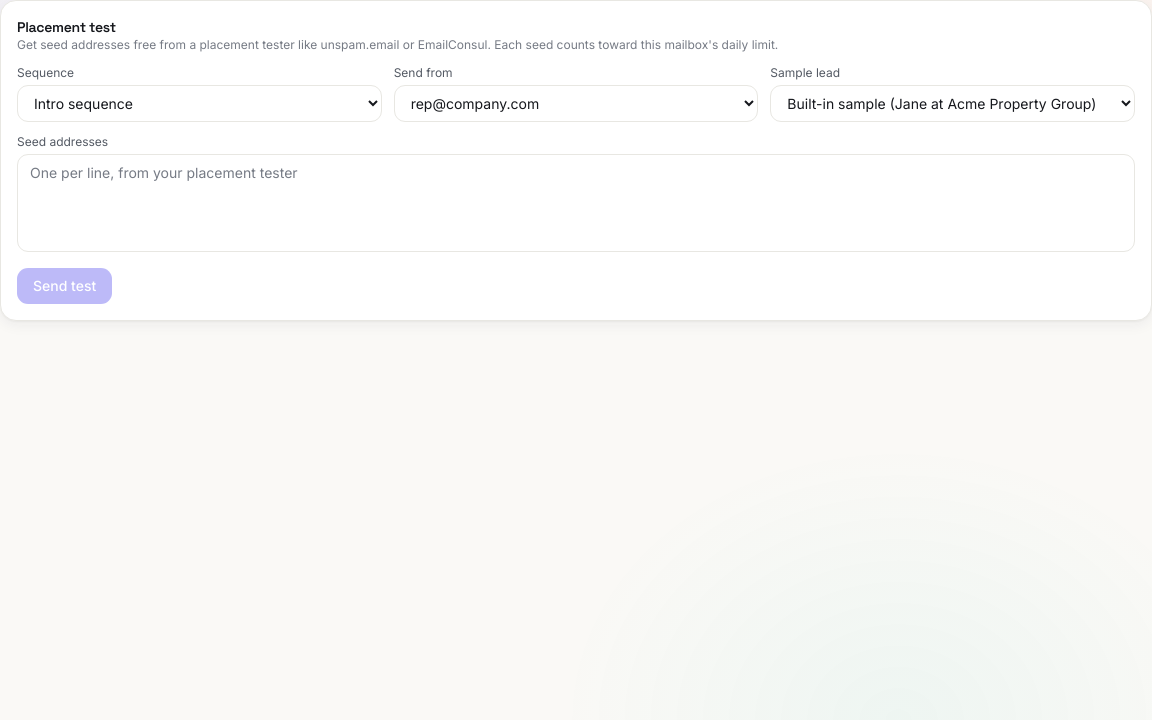
PlacementTestCard › shows a note when the AI personalization line could not be generated
In the text box labelled "Seed addresses": coordinates (576, 203) [17,154,1135,252], type "a@tester.com"
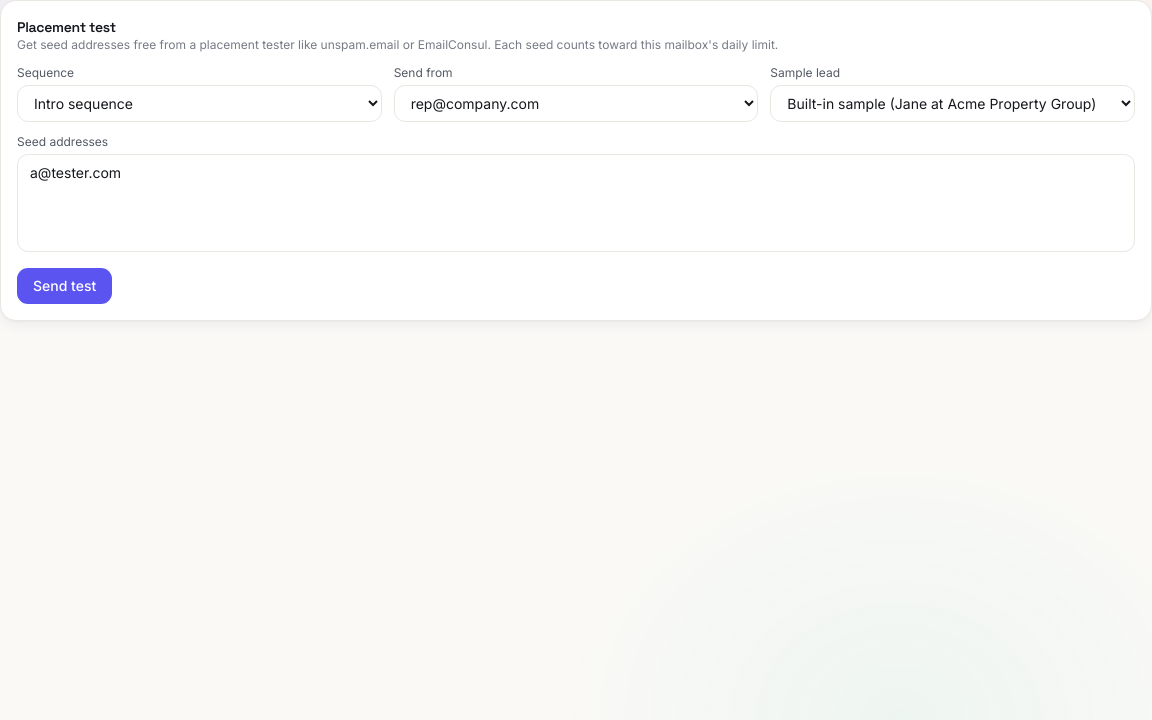
Click the button "Send test": coordinates (65, 286) [17,268,112,304]
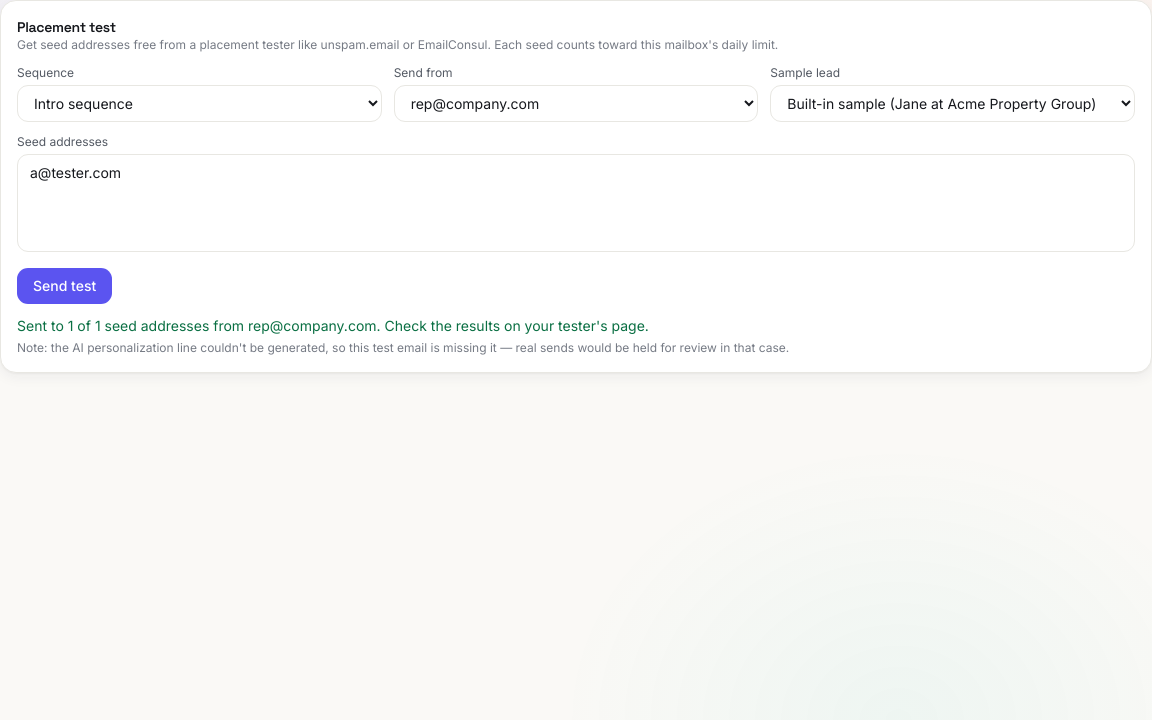
Result: the text "the ai personalization line couldn't be generated, so this test email is missing it — real sends would be held for revie" is shown at [17,340,789,355]
